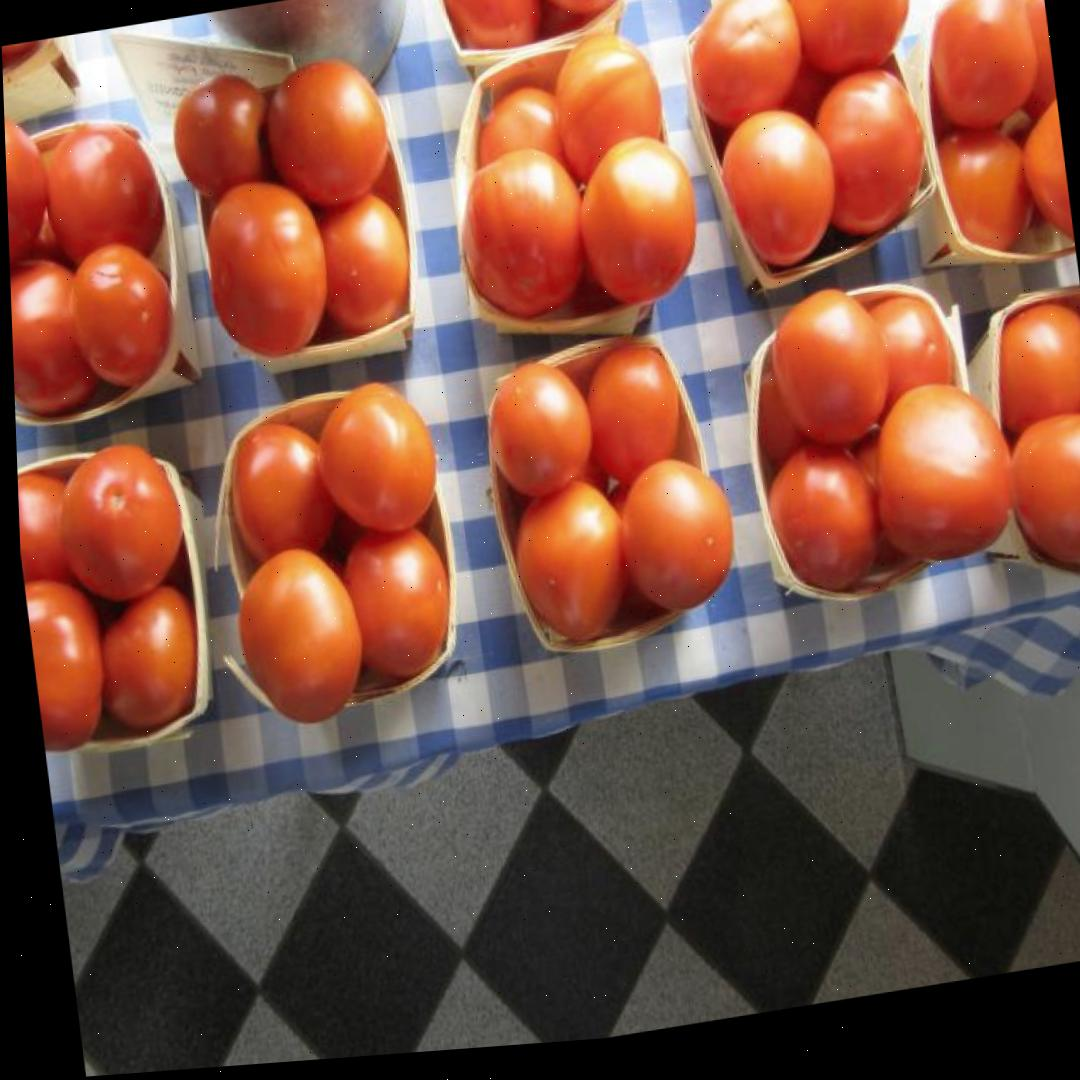matang: (861, 372, 1024, 573), (229, 541, 371, 737), (198, 172, 336, 362), (571, 128, 706, 312), (48, 434, 187, 606), (763, 278, 896, 452), (307, 375, 442, 545), (711, 103, 844, 274), (615, 449, 742, 623), (260, 53, 395, 216), (40, 115, 167, 276), (64, 235, 180, 391), (680, 0, 810, 134), (481, 356, 596, 502), (23, 573, 113, 754), (923, 0, 1043, 132), (777, 0, 917, 84), (4, 100, 57, 275)
